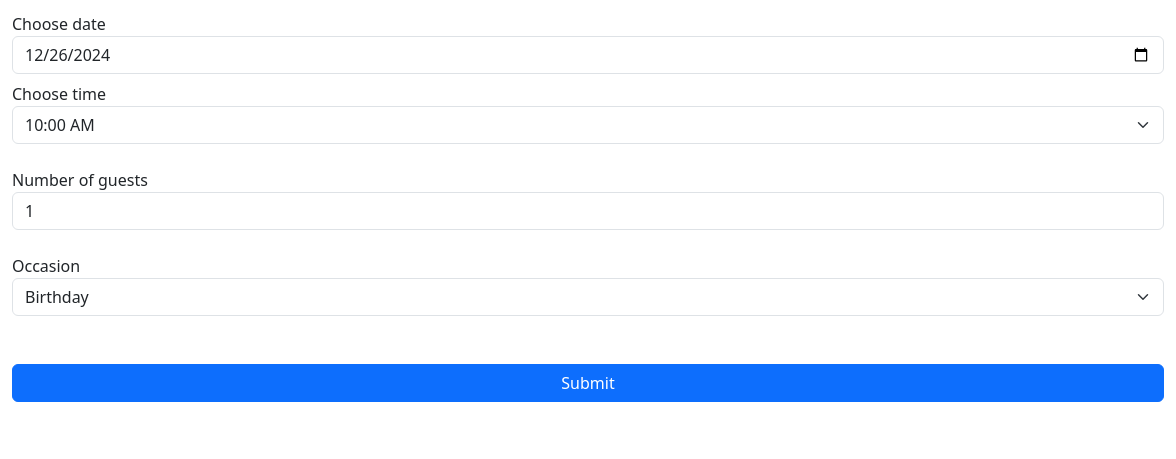
Test case: BookingForm › Displays an error message when a past date is selected
The width and height of the screenshot is (1176, 459).
Type "2023-01-01" into the date field labelled "Choose date".
click(588, 55); type("2023-01-01")  # box [12, 36, 1164, 74]
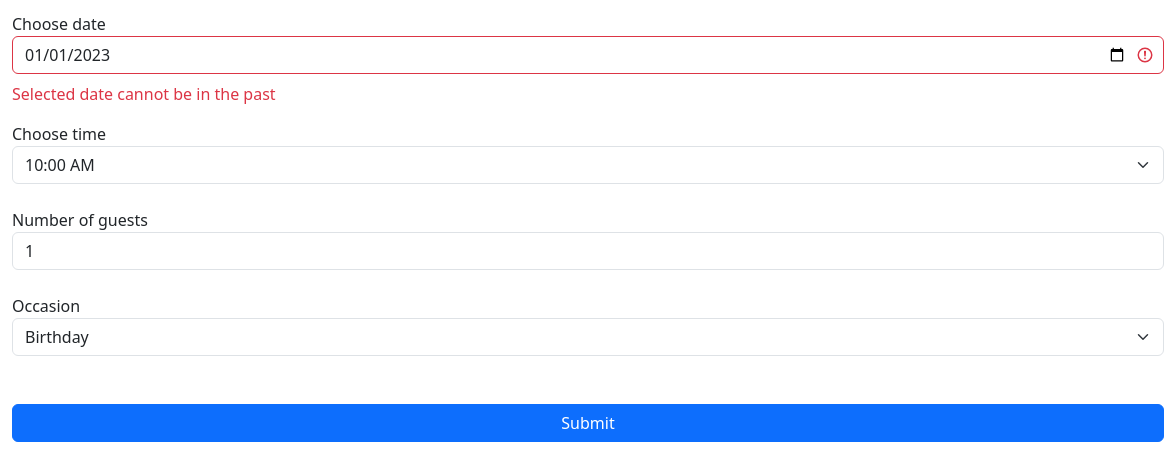
Check: the text "Selected date cannot be in the past" is shown, box [12, 83, 276, 105]
